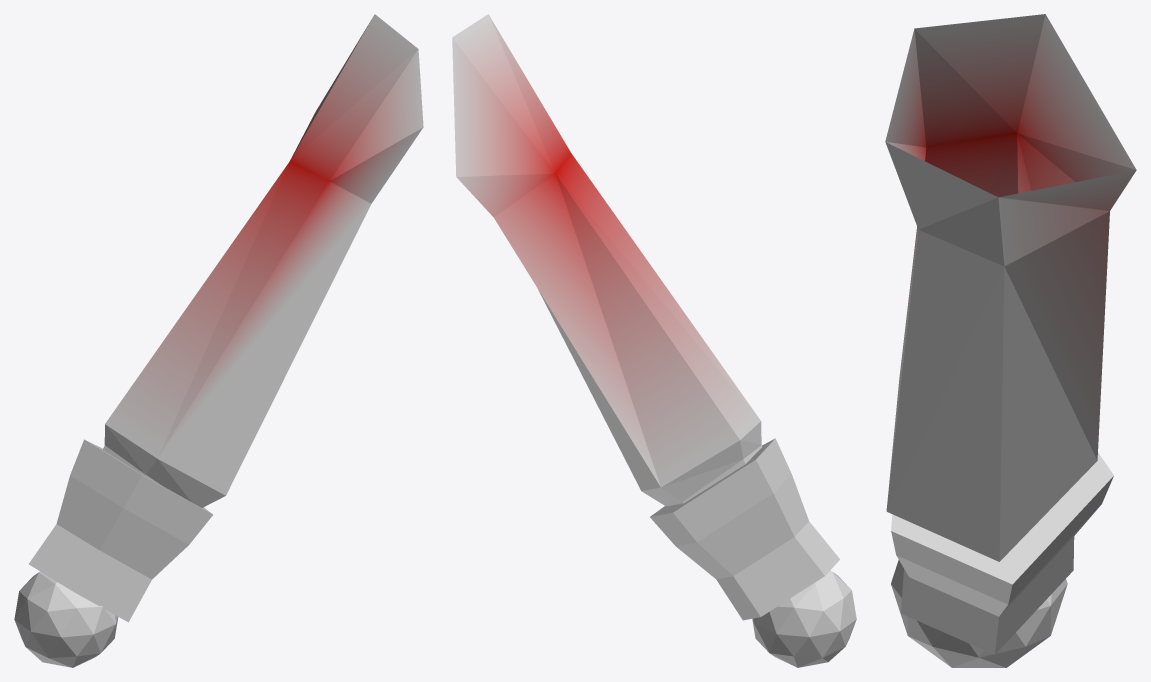
The model's file is arm.dae.
The picture shows the model from 3 angles, left to right: view 1: azimuth 30°, elevation 25°; view 2: azimuth 150°, elevation 25°; view 3: azimuth 270°, elevation 25°; orthographic projection. The views are drawn at different scales.
Parts seen in each view (by area): view 1: arm.001; view 2: arm.001; view 3: arm.001.
Part boxes in pixels (<box>): arm.001: <box>14,14,423,667</box>; arm.001: <box>452,14,856,667</box>; arm.001: <box>885,14,1136,667</box>.
Size of the model in its own units: 1.02 by 0.3576 by 1.43.
